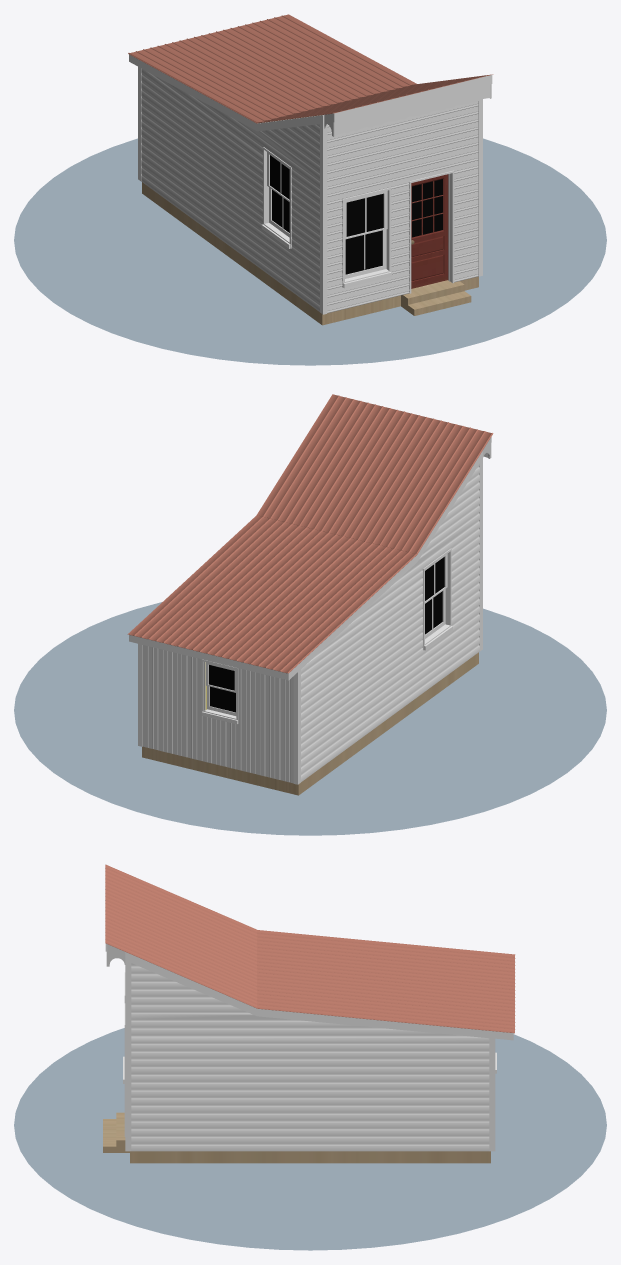
The model's file is 21 West Main Export.fbx.
The picture shows the model from 3 angles, top to bottom: view 1: azimuth 30°, elevation 25°; view 2: azimuth 150°, elevation 25°; view 3: azimuth 270°, elevation 25°; orthographic projection.
Parts seen in each view (by area): view 1: Stage, Shiplap_Siding_L_Board_0, Front_Siding_Board, Back_Shingles, Foundation, Corner_Trim, Door, Soffit_Scrollwork, Front_Shingles, Fascia_Trim, Cornice_Front, Window_Panel (+8 smaller); view 2: Stage, Back_Shingles, Front_Shingles, Shiplap_Siding_L_Board_0, Rear_Siding, Foundation, Fascia_Trim, Corner_Trim, Window_Casing_2, Glass_Top_2; view 3: Stage, Shiplap_Siding_R_Board_0, Back_Shingles, Front_Shingles, Foundation, Fascia_Trim, Corner_Trim.
Boxes of the visible parts, box(x1,y1,x2,y2) form: Stage: box(14, 138, 606, 365); Shiplap_Siding_L_Board_0: box(141, 68, 319, 311); Front_Siding_Board: box(327, 101, 478, 313); Back_Shingles: box(128, 14, 416, 123); Foundation: box(142, 182, 478, 325); Corner_Trim: box(138, 61, 482, 314); Door: box(411, 174, 448, 288); Soffit_Scrollwork: box(335, 84, 490, 136); Front_Shingles: box(257, 74, 493, 123); Fascia_Trim: box(129, 54, 320, 131); Cornice_Front: box(333, 75, 492, 122); Window_Panel: box(412, 179, 442, 237); Stage: box(14, 602, 606, 835); Back_Shingles: box(127, 515, 417, 673); Front_Shingles: box(257, 394, 493, 554); Shiplap_Siding_L_Board_0: box(301, 463, 479, 781); Rear_Siding: box(143, 645, 293, 783); Foundation: box(142, 652, 478, 795); Fascia_Trim: box(129, 455, 479, 680); Corner_Trim: box(138, 450, 482, 784); Window_Casing_2: box(422, 548, 451, 650); Glass_Top_2: box(425, 557, 444, 600); Stage: box(14, 1028, 606, 1250); Shiplap_Siding_R_Board_0: box(131, 963, 489, 1151); Back_Shingles: box(257, 930, 515, 1033); Front_Shingles: box(105, 864, 257, 1008); Foundation: box(103, 1112, 490, 1163); Fascia_Trim: box(131, 954, 513, 1040); Corner_Trim: box(125, 952, 495, 1151).
Size of the model in its own units: 1048 by 434 by 1048.
Materials: 10 (3 with a texture image).
